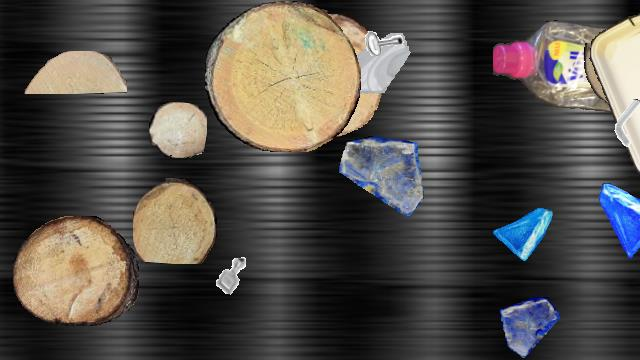glass: (339, 136, 423, 220), (339, 33, 415, 109), (499, 297, 561, 359), (591, 183, 640, 259), (492, 201, 552, 261)
metal: (354, 1, 408, 55), (206, 250, 258, 302), (604, 99, 640, 149)
plastic: (493, 18, 640, 126), (587, 1, 640, 179)
wood: (205, 1, 361, 151), (265, 14, 383, 138), (13, 216, 139, 326), (133, 178, 217, 264), (24, 51, 126, 93), (583, 43, 640, 111), (149, 102, 207, 158)
